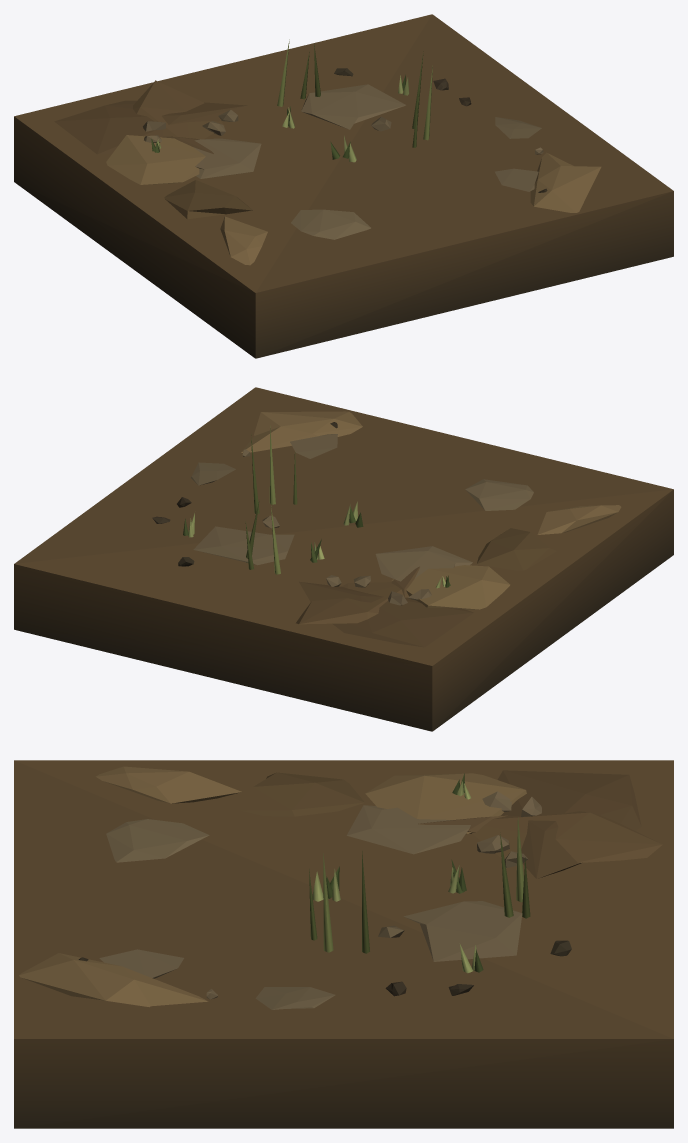
The model's file is mud-waterline-tile.glb.
3 views of the same model, one above another, from view 1: azimuth 30°, elevation 25°; view 2: azimuth 150°, elevation 25°; view 3: azimuth 270°, elevation 25° (orthographic). The views are drawn at different scales.
Parts seen in each view (by area): view 1: mud_waterline_tile; view 2: mud_waterline_tile; view 3: mud_waterline_tile.
Part boxes in pixels (x1,y1,x2,y2): mud_waterline_tile: [14, 14, 673, 358]; mud_waterline_tile: [14, 387, 673, 731]; mud_waterline_tile: [14, 760, 673, 1128].
Size of the model in its own units: 4 by 1.31 by 4.
